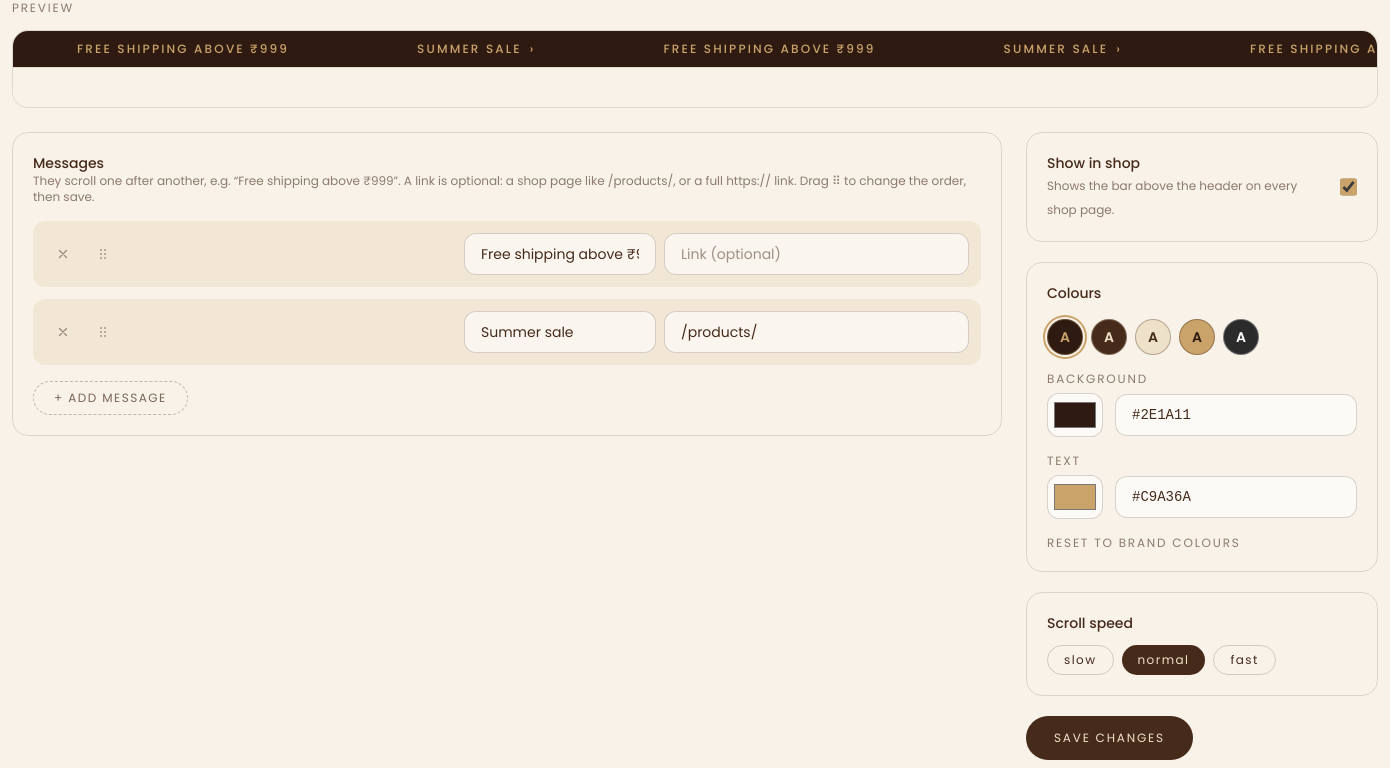
Test: AnnouncementForm › editing a row clears its message
Clear the field named "Message 2" at (560, 332), box [464, 311, 656, 353]
(page scrolled)
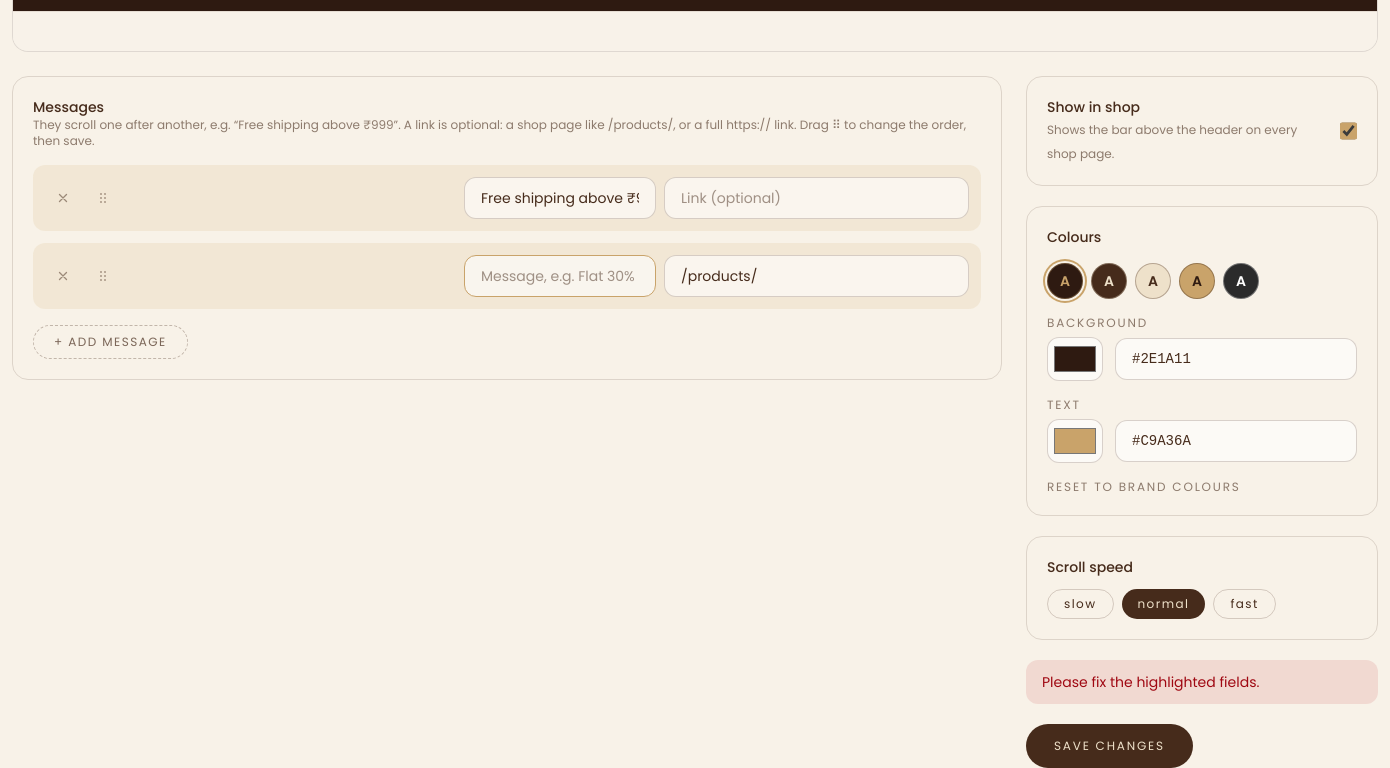
Click the button "Save changes".
click(1109, 746)  # box [1026, 724, 1193, 767]
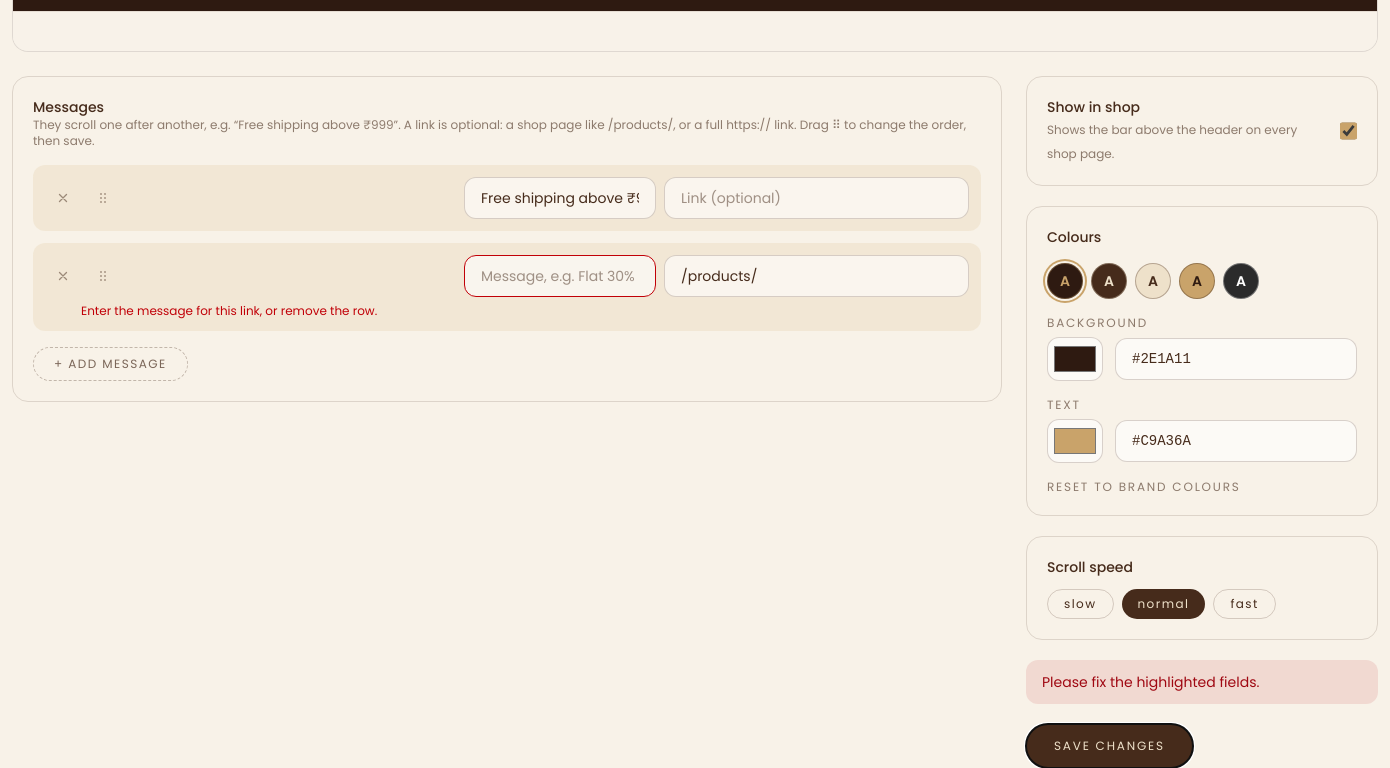
Type "Sale" into the field with placeholder "Message, e.g. Flat 30% off | Summer Collection".
click(560, 276); type("Sale")  # box [464, 255, 656, 297]
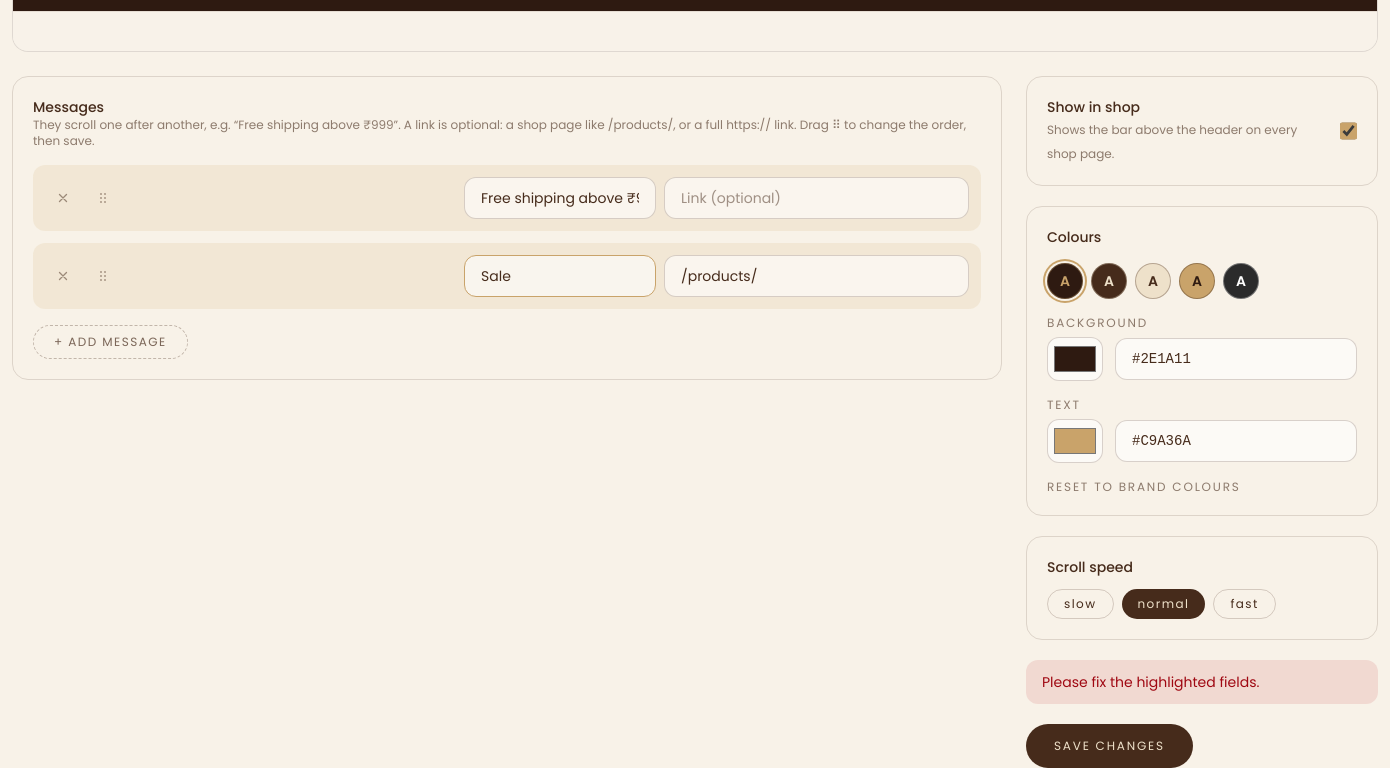
Check: the text "Enter the message for this link, or remove the row." is gone
